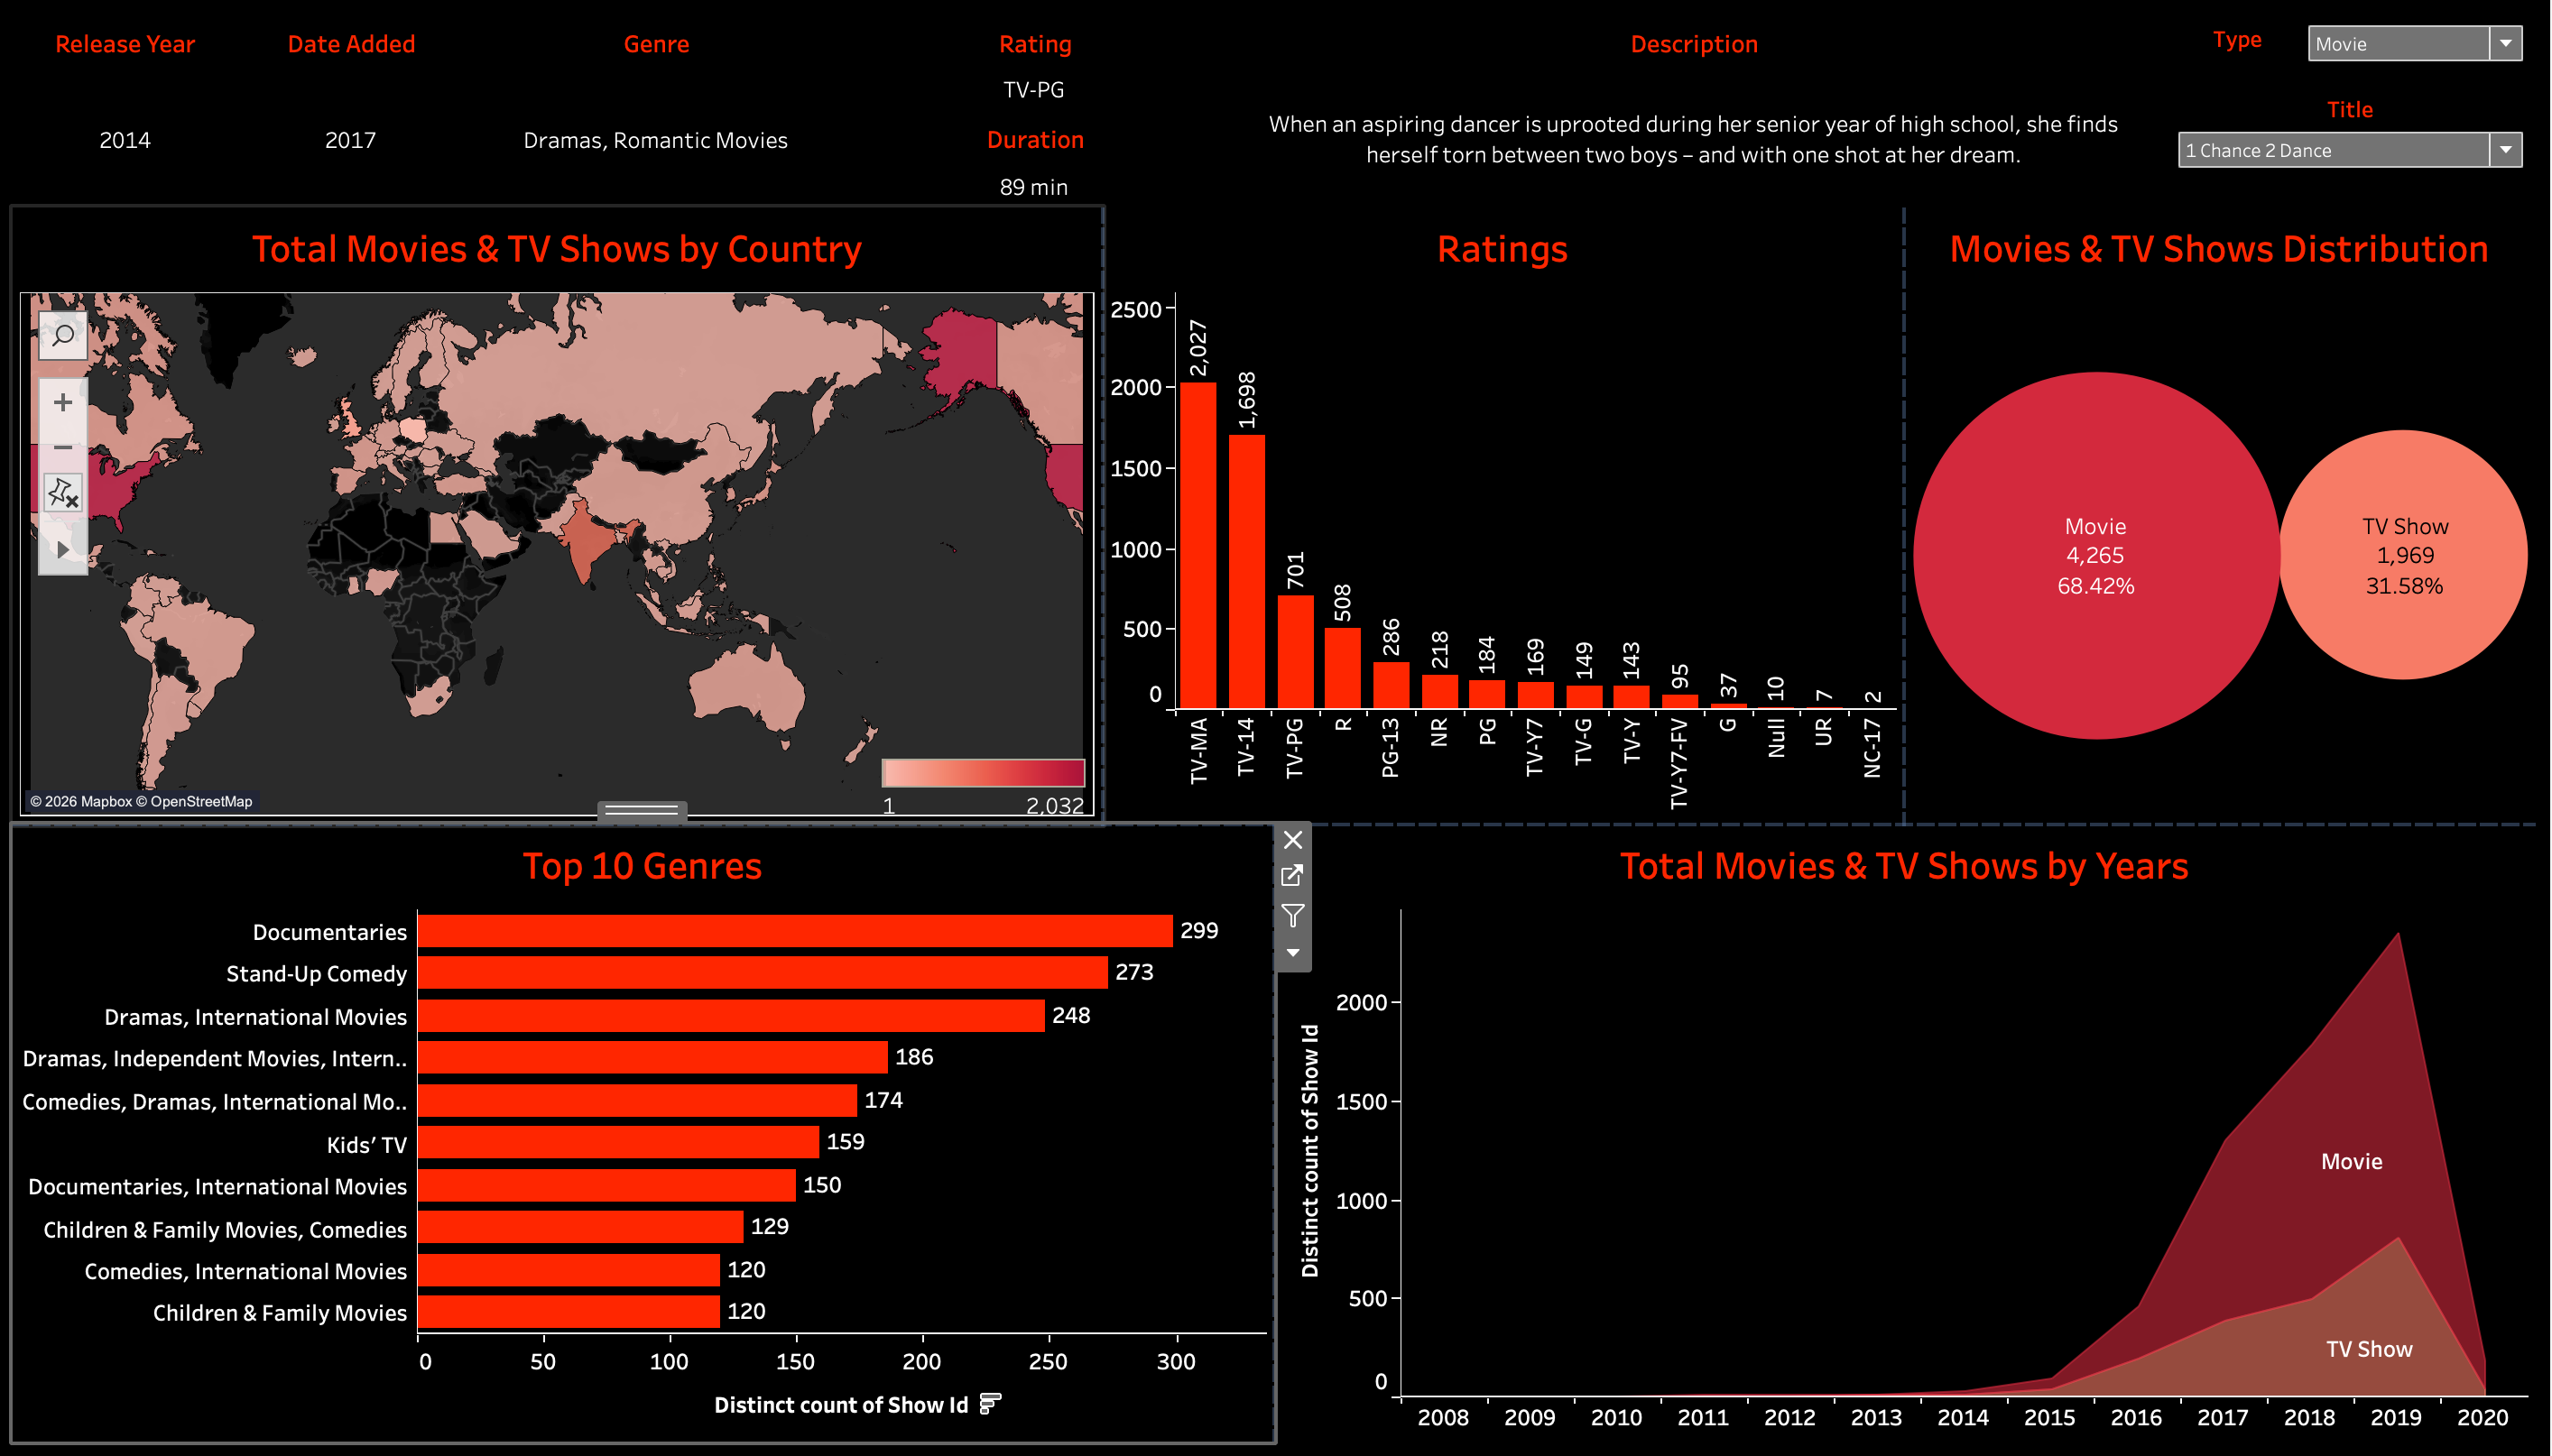

What the dashboard file says about the page in this screenshot:
{"tool":"tableau","page":{"name":"NETFLIX","canvas":[1000,1000],"units":"permille","ordinal":0},"visuals":[{"type":"worksheet","title":"Release Year","mark":"Automatic","box":[5.7,9.9,88.4,133.6]},{"type":"worksheet","title":"Date Added","mark":"Automatic","box":[94,9.9,89.1,133.6]},{"type":"worksheet","title":"Genre","mark":"Automatic","box":[183.2,9.9,149.9,133.6]},{"type":"worksheet","title":"Rating","mark":"Automatic","box":[333.1,9.9,147.1,65.6]},{"type":"worksheet","title":"Description","mark":"Automatic","box":[480.2,9.9,369.2,133.6]},{"type":"filter","title":"Description","param":"[federated.0ez1ghw00ckpqr1gdj5vg0ff1tns].[none:type:nk]","box":[849.3,9.9,145,50.4]},{"type":"filter","title":"Description","param":"[federated.0ez1ghw00ckpqr1gdj5vg0ff1tns].[none:title:nk]","box":[849.3,60.3,145,83.3]},{"type":"worksheet","title":"Duration","mark":"Automatic","box":[333.1,75.5,147.1,68.1]},{"type":"worksheet","title":"Total Movies & TV Shows by County","mark":"Multipolygon","box":[5.7,143.5,427.2,423.3]},{"type":"worksheet","title":"Ratings","mark":"Automatic","rows":["show_id"],"cols":["rating"],"box":[432.9,143.5,314.3,423.3]},{"type":"worksheet","title":"Movies & TV Shows distribution","mark":"Circle","box":[747.1,143.5,247.2,423.3]},{"type":"legend","title":"Total Movies & TV Shows by County","param":"[federated.0ez1ghw00ckpqr1gdj5vg0ff1tns].[ctd:show_id:qk]","box":[343.7,517.3,85.6,43.3]},{"type":"worksheet","title":"Top 10 genre","mark":"Automatic","rows":["listed_in"],"cols":["show_id"],"box":[5.7,566.8,494.3,423.3]},{"type":"worksheet","title":"Total Movies & TV Shows by Years","mark":"Area","rows":["show_id"],"cols":["date_added"],"box":[500,566.8,494.4,423.3]}]}

Visuals, with their boxes on the dashboard's canvas, which has no fixed pixel size, in thousandths of its width and height (x1, y1, x2, y2). These are canvas units, not pixel positions in the 2552x1456 screenshot, which may show the page scaled, cropped or inside an application window:
"Release Year" worksheet: x1=6, y1=10, x2=94, y2=144
"Date Added" worksheet: x1=94, y1=10, x2=183, y2=144
"Genre" worksheet: x1=183, y1=10, x2=333, y2=144
"Rating" worksheet: x1=333, y1=10, x2=480, y2=76
"Description" worksheet: x1=480, y1=10, x2=849, y2=144
"Description" filter: x1=849, y1=10, x2=994, y2=60
"Description" filter: x1=849, y1=60, x2=994, y2=144
"Duration" worksheet: x1=333, y1=76, x2=480, y2=144
"Total Movies & TV Shows by County" worksheet (Multipolygon marks): x1=6, y1=144, x2=433, y2=567
"Ratings" worksheet: x1=433, y1=144, x2=747, y2=567
"Movies & TV Shows distribution" worksheet (Circle marks): x1=747, y1=144, x2=994, y2=567
"Total Movies & TV Shows by County" legend: x1=344, y1=517, x2=429, y2=561
"Top 10 genre" worksheet: x1=6, y1=567, x2=500, y2=990
"Total Movies & TV Shows by Years" worksheet (Area marks): x1=500, y1=567, x2=994, y2=990
